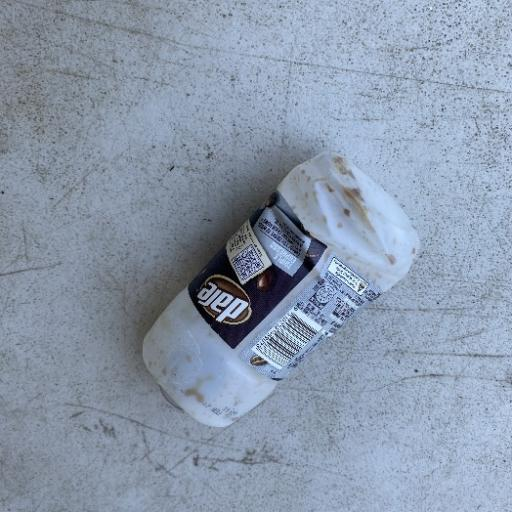Plastic: (139, 147, 423, 430)
